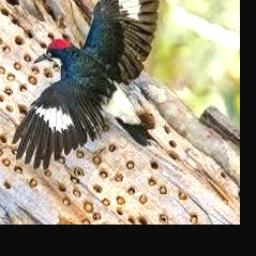Woodpecker: (12, 0, 163, 169)
